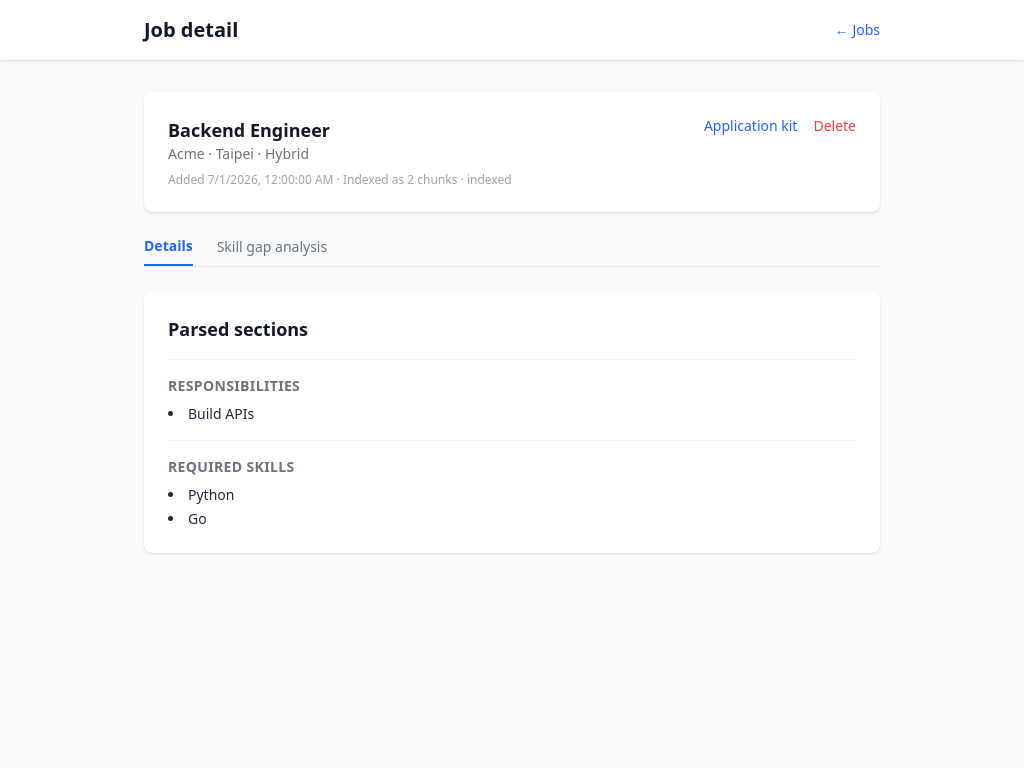
expanding a citation shows the source chunk content
Expected: the heading "Backend Engineer" is shown, [168,116,330,144]
Click the tab "Skill gap analysis" at {"x": 272, "y": 251}, box [217,236,327,266]
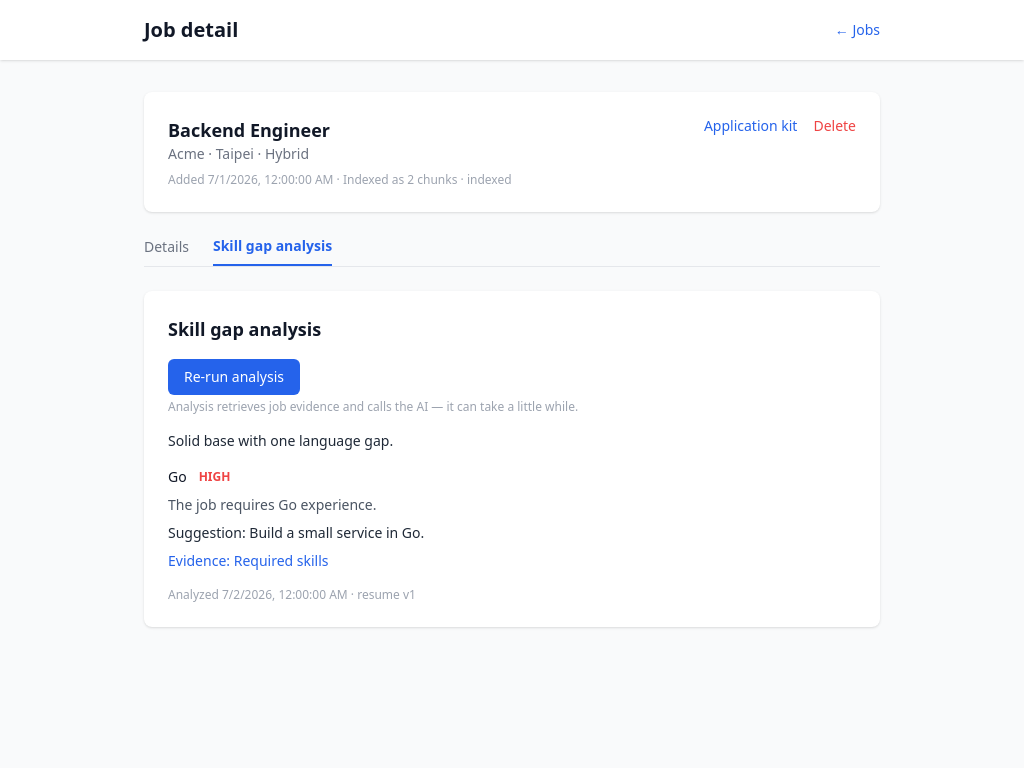
Expected: the text "Required skills: Python, Go" is not shown
Expected: the text "Go" is shown, [168,467,187,487]
Click the button "Evidence: Required skills" at {"x": 248, "y": 561}, box [168,551,328,571]
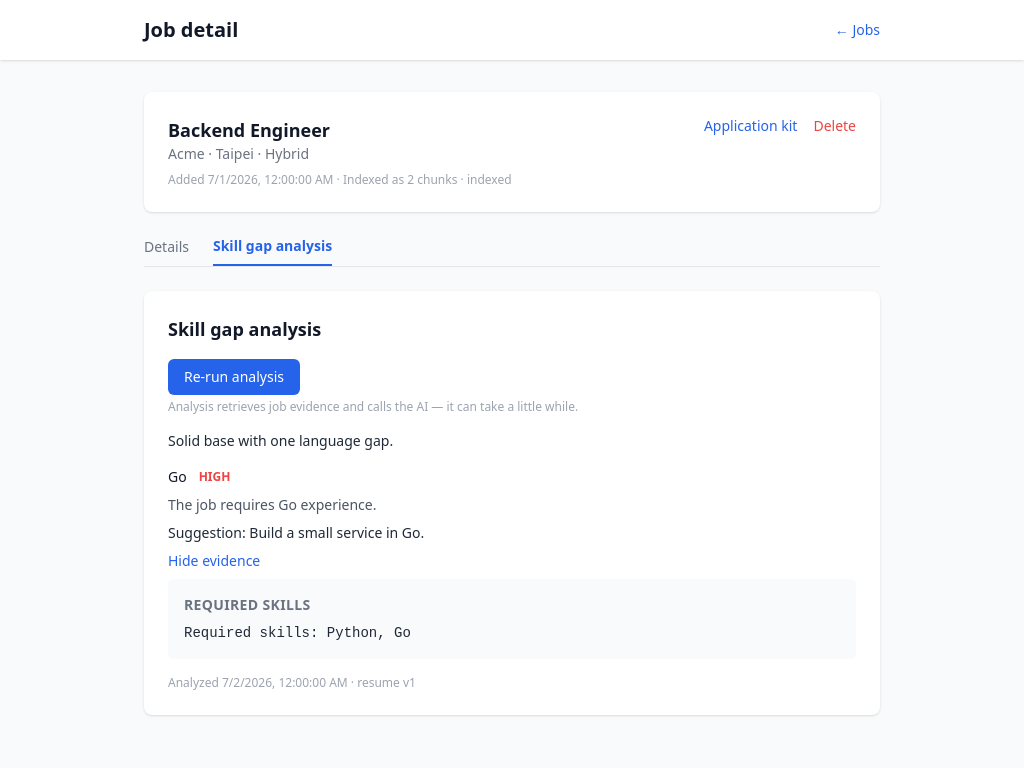
Expected: the text "Required skills: Python, Go" is shown, [184,625,411,641]
Expected: the button "Hide evidence" is shown, [168,551,260,571]
